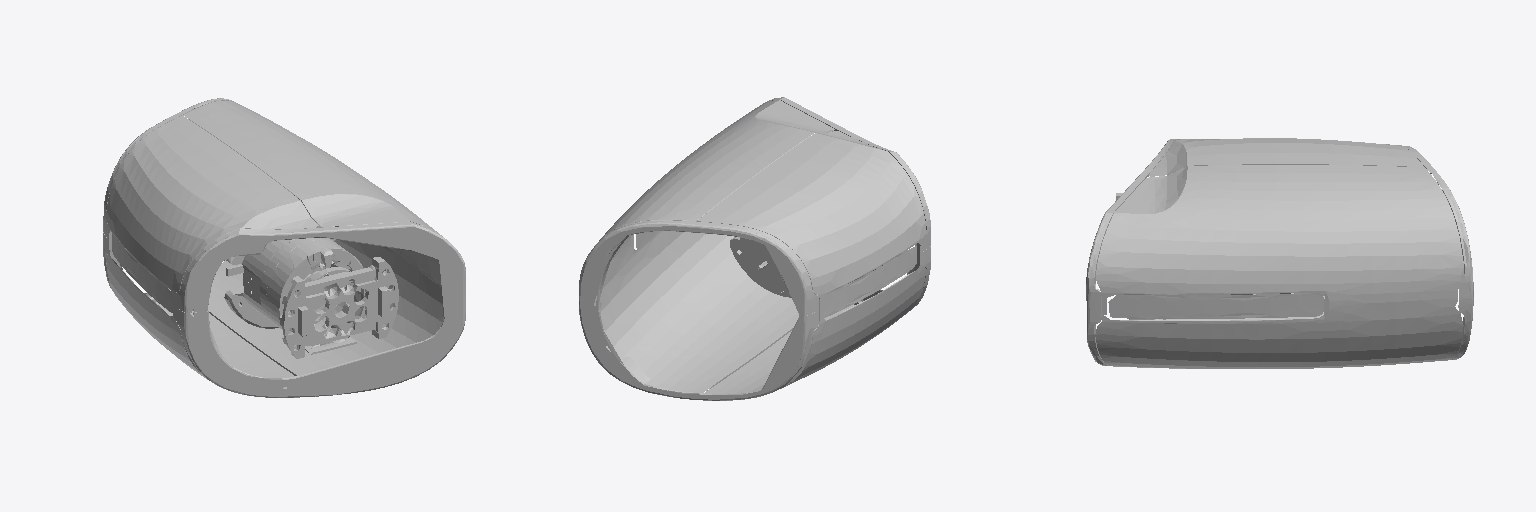
Rendered from sim_ecub_r_hip_3.obj.
The picture shows the model from 3 angles: view 1: azimuth 30°, elevation 25°; view 2: azimuth 150°, elevation 25°; view 3: azimuth 270°, elevation 25°; orthographic projection.
Bounding box in the file's own units: 187 × 138 × 266.